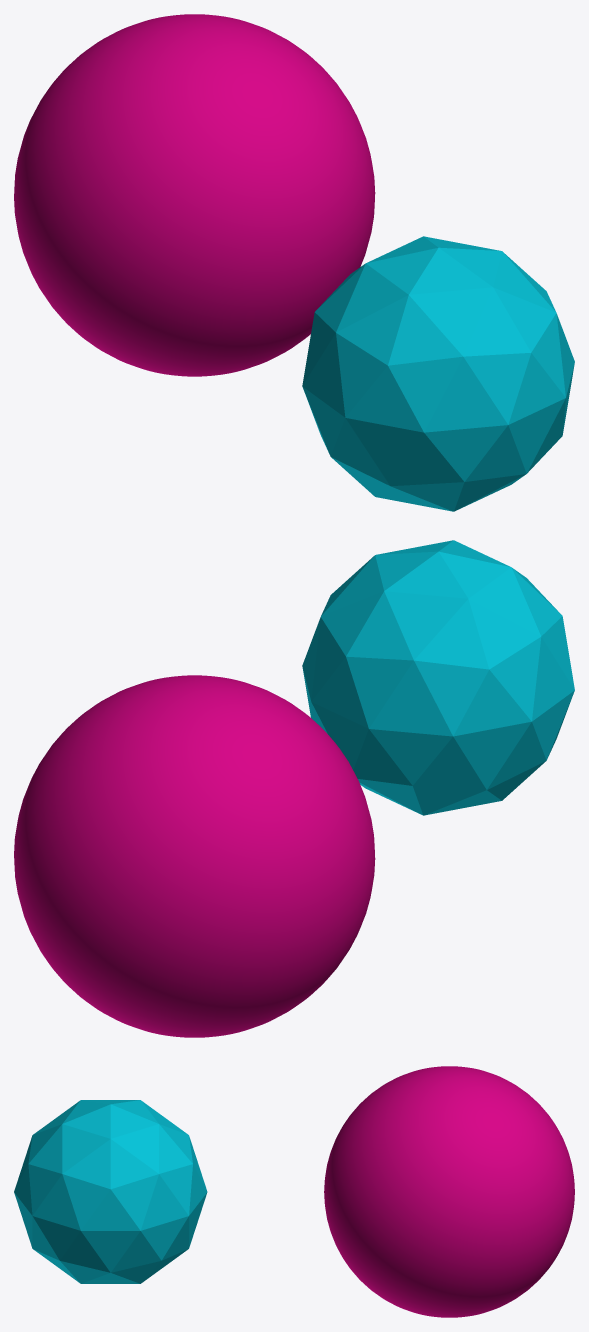
The model's file is even_more_cubes.dae.
3 views of the same model, one above another, from view 1: azimuth 30°, elevation 25°; view 2: azimuth 150°, elevation 25°; view 3: azimuth 270°, elevation 25° (orthographic). The views are drawn at different scales.
Visible parts, largest first — view 1: Sphere, Icosphere; view 2: Sphere, Icosphere; view 3: Sphere, Icosphere.
Boxes of the visible parts, <box> form: Sphere: <box>14,14,375,376</box>; Icosphere: <box>302,236,574,511</box>; Sphere: <box>14,675,375,1037</box>; Icosphere: <box>302,540,574,815</box>; Sphere: <box>324,1066,574,1317</box>; Icosphere: <box>14,1100,207,1283</box>.
Size of the model in its own units: 4.26 by 9.52 by 4.29.
